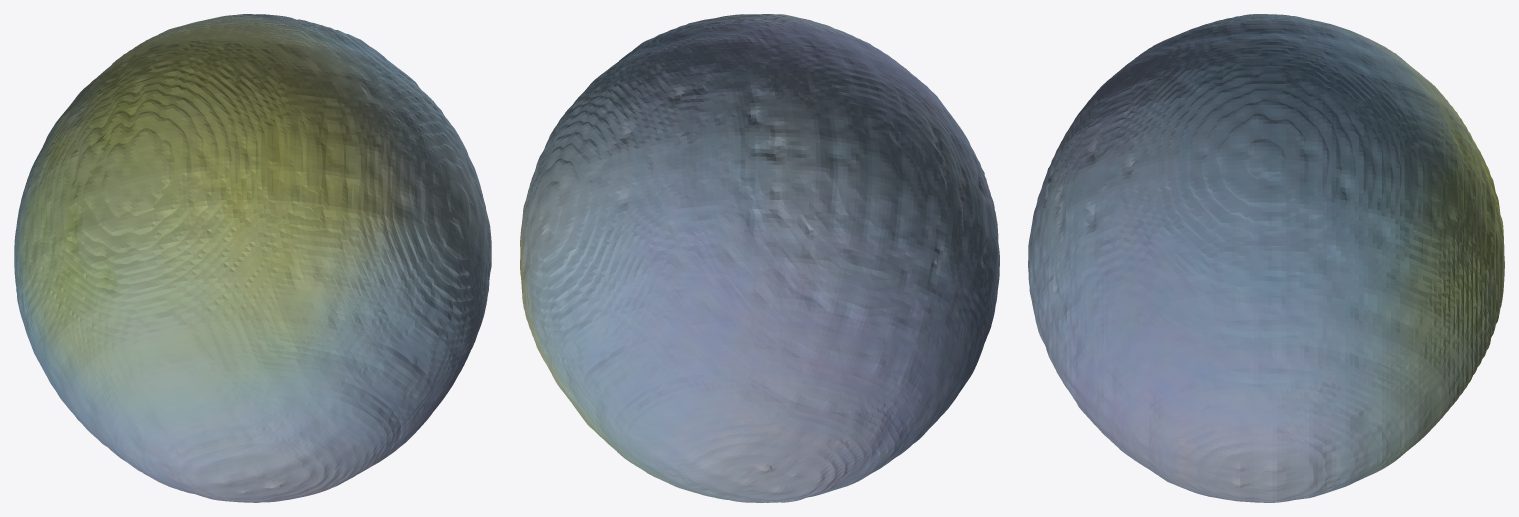
The picture shows the model from 3 angles, left to right: view 1: azimuth 30°, elevation 25°; view 2: azimuth 150°, elevation 25°; view 3: azimuth 270°, elevation 25°; orthographic projection.
Visible parts, largest first — view 1: geometry_0; view 2: geometry_0; view 3: geometry_0.
Boxes of the visible parts, x1,y1,x2,y2 form: geometry_0: (14,14,491,502); geometry_0: (520,14,999,502); geometry_0: (1028,14,1504,502).
Size of the model in its own units: 1.57 by 1.6 by 1.55.
